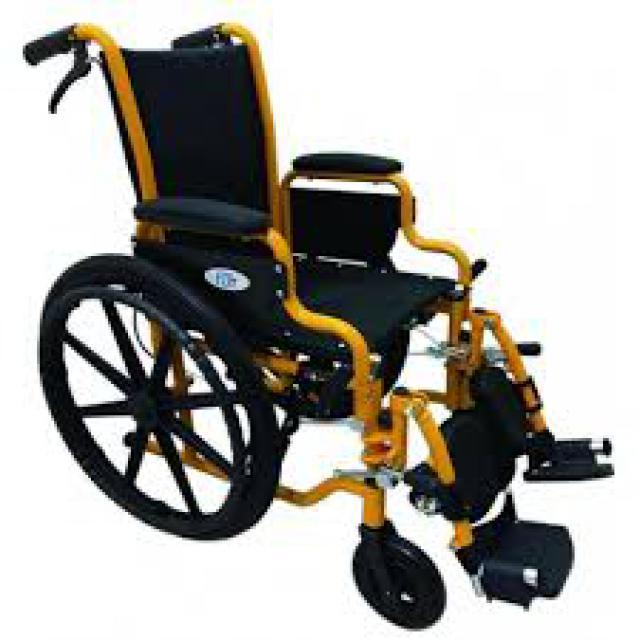wheelchair: (5, 12, 638, 638)
